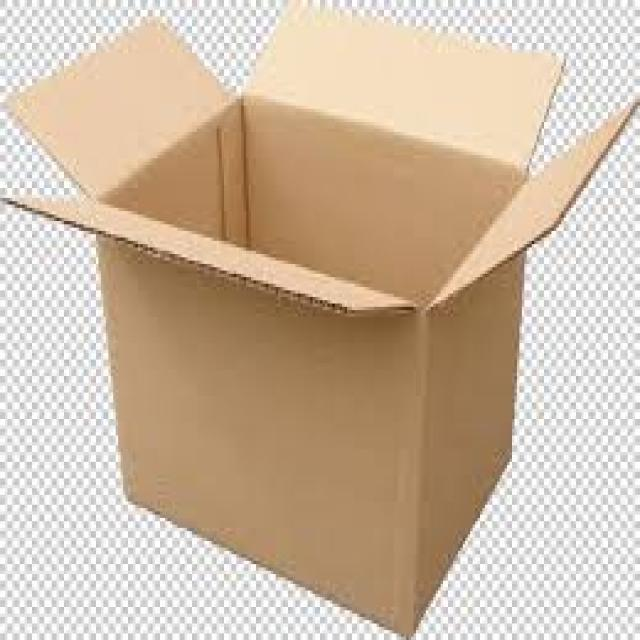Cardboard: (6, 0, 640, 637)
